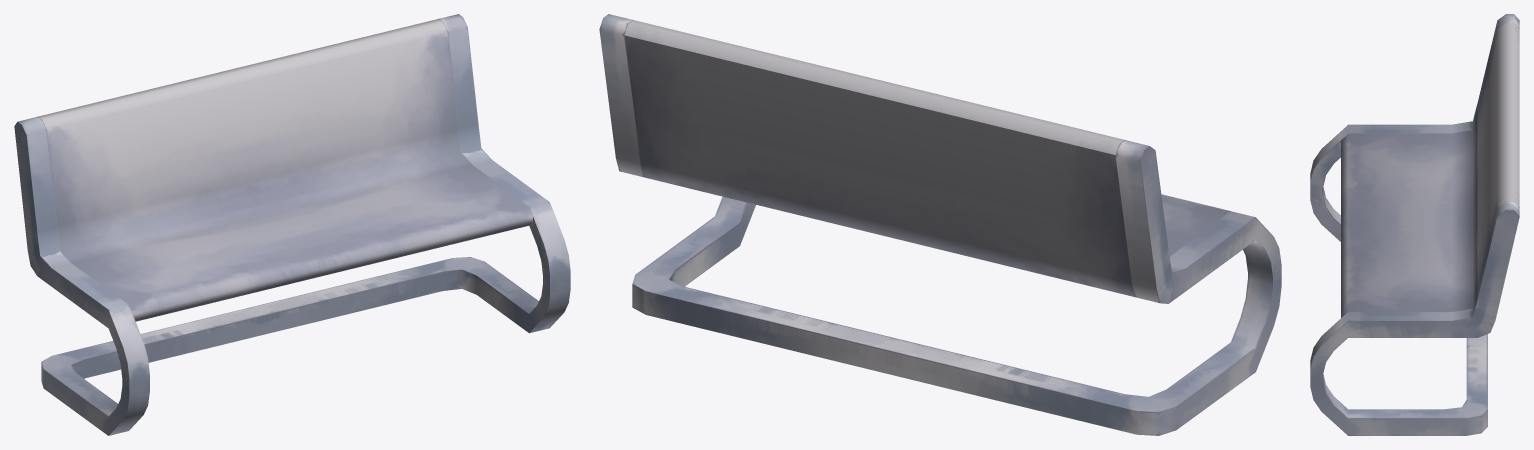
The model's file is SM_PRP_Bench.fbx.
3 views of the same model, side by side, from view 1: azimuth 30°, elevation 25°; view 2: azimuth 150°, elevation 25°; view 3: azimuth 270°, elevation 25° (orthographic). The views are drawn at different scales.
Parts seen in each view (by area): view 1: m_seat_low, m_border_low; view 2: m_seat_low, m_border_low; view 3: m_seat_low, m_border_low.
Part boxes in pixels (box(x1,y1,x2,y2)): m_seat_low: box(38, 19, 532, 321); m_border_low: box(14, 14, 570, 435); m_seat_low: box(624, 20, 1230, 296); m_border_low: box(599, 14, 1281, 435); m_seat_low: box(1341, 23, 1519, 317); m_border_low: box(1310, 14, 1519, 435).
Bounding box in the file's own units: 164 × 88.22 × 74.21.
Materials: 2 (2 with a texture image).
